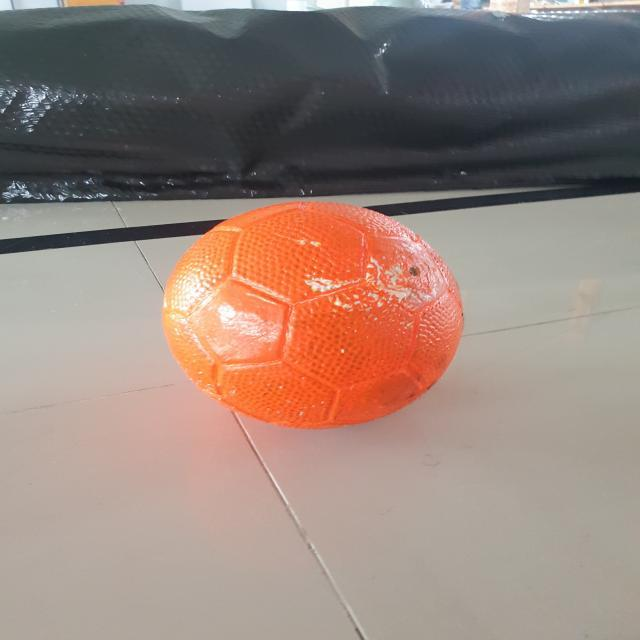bola: (155, 195, 469, 434)
